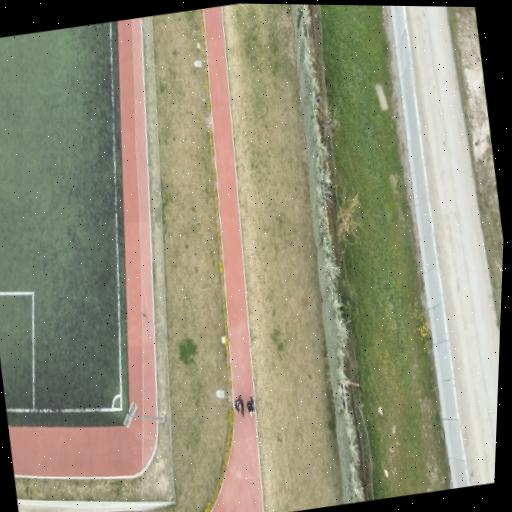person: (234, 395, 243, 416), (246, 396, 254, 416)
